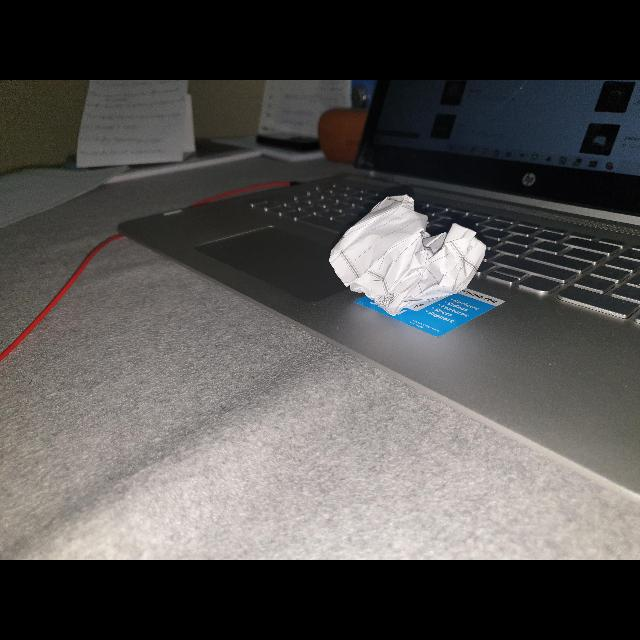scrap_paper: (327, 185, 491, 317)
